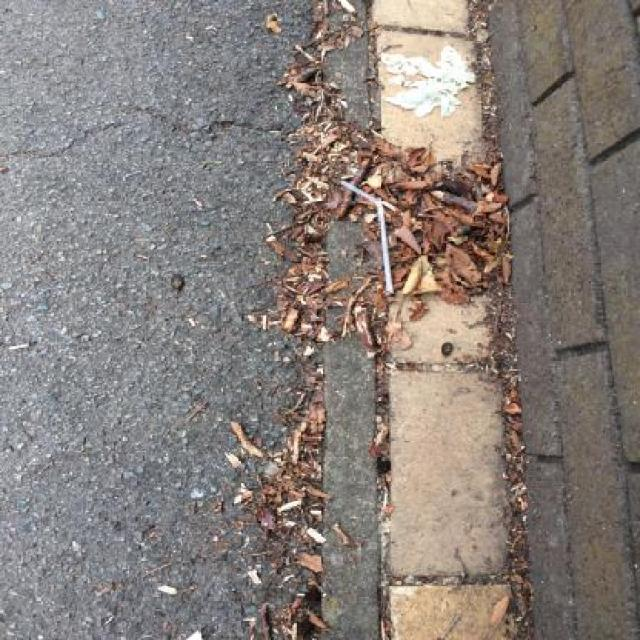plastic: (339, 179, 395, 295)
